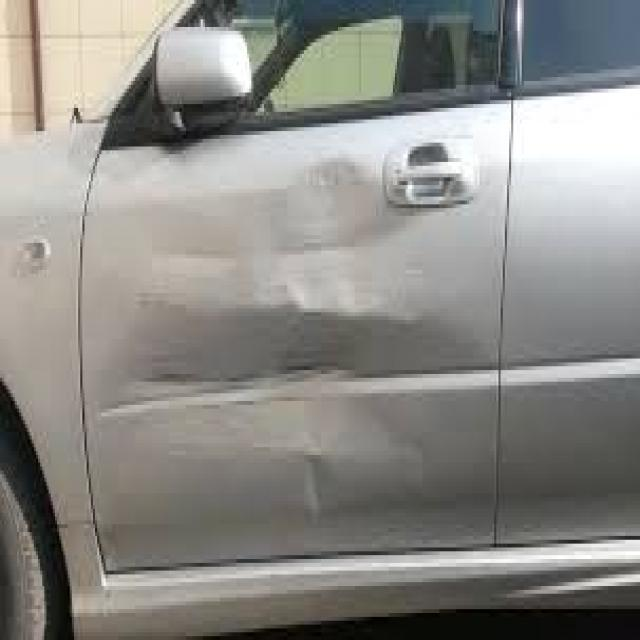minor: (227, 146, 424, 322), (248, 380, 388, 547)
